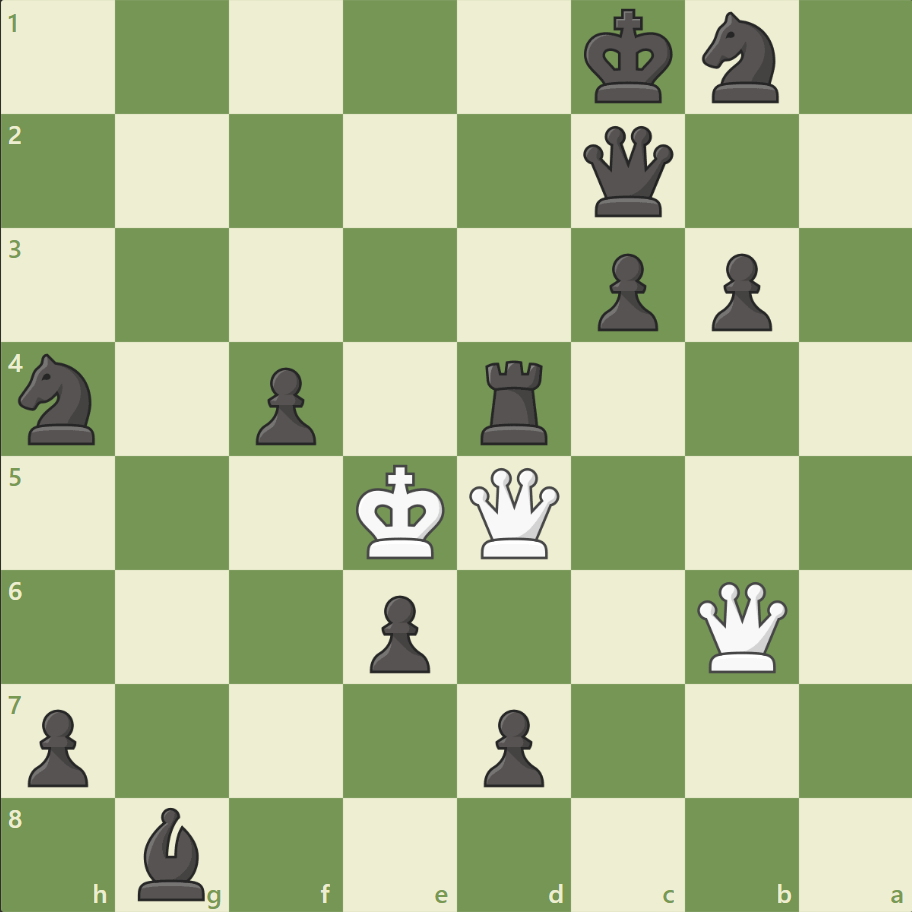K: (351, 458, 451, 566)
Q: (691, 576, 790, 676), (464, 463, 563, 562)
b: (131, 801, 215, 904)
k: (579, 4, 679, 112)
n: (692, 7, 789, 110), (11, 348, 108, 450)
p: (474, 700, 549, 791), (20, 700, 95, 791), (247, 359, 322, 450), (701, 246, 776, 337), (361, 586, 435, 677), (588, 246, 662, 337)
q: (578, 122, 677, 222)
r: (473, 352, 556, 449)
